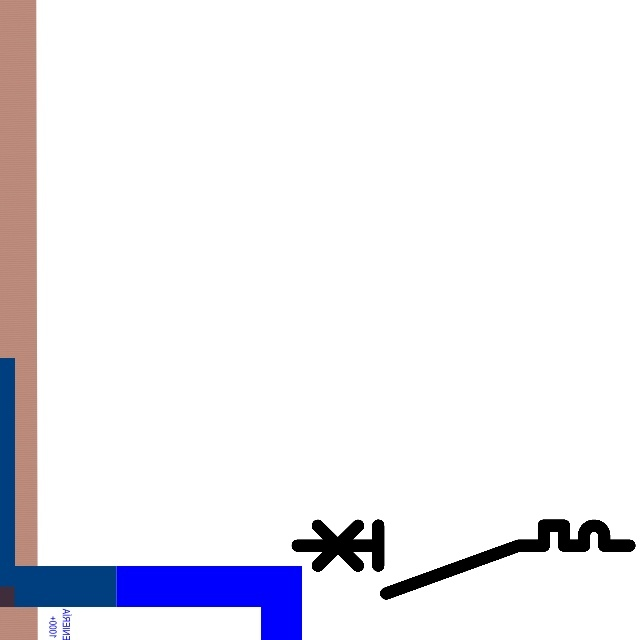interruptor_termomagnetico: (289, 517, 638, 602)
